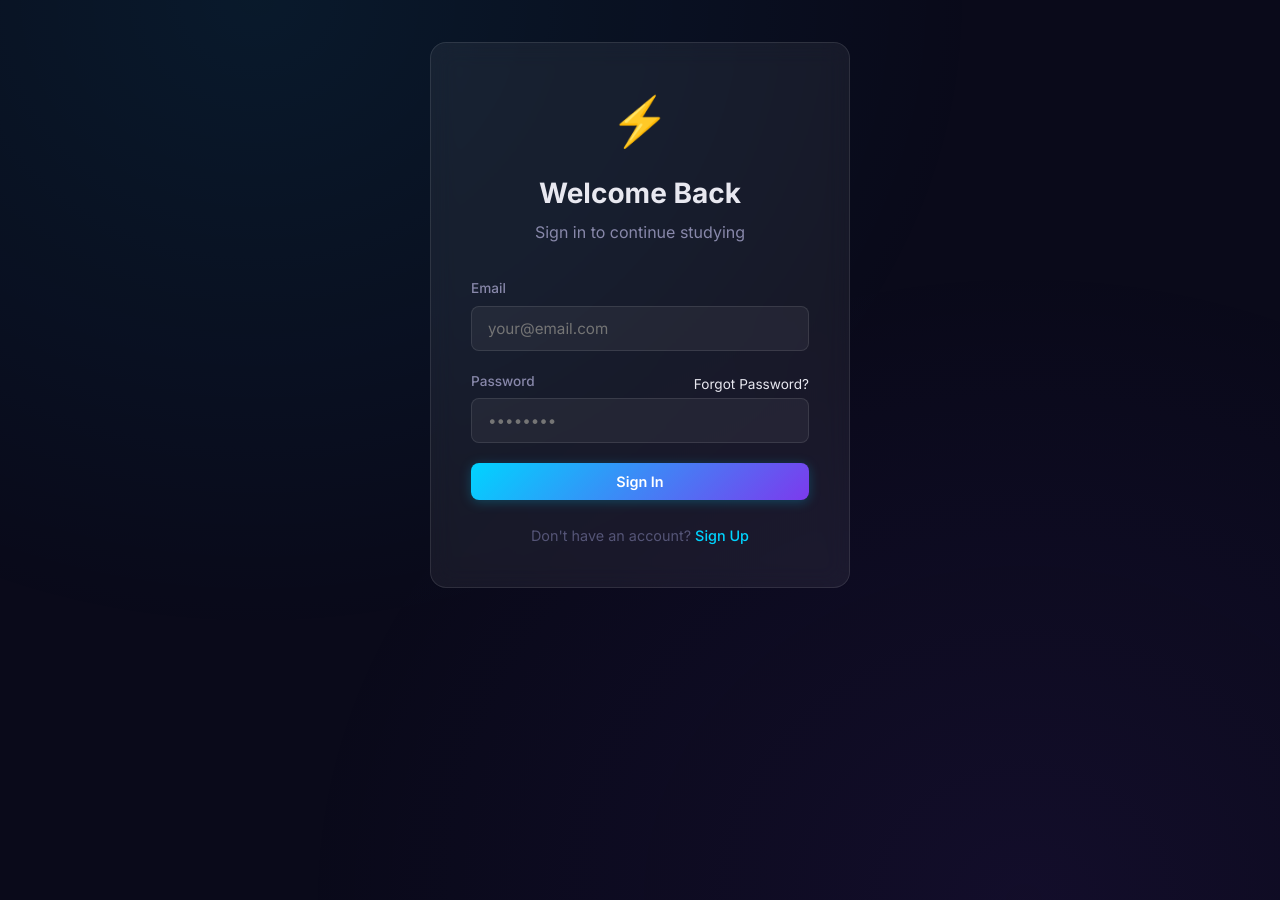
Scenario: Auth and Study UI flows › LoginPage renders error message on invalid credentials
Type "wrong@example.com" into the field labelled "Email" at (640, 328), box top-left (471, 306), bottom-right (809, 351)
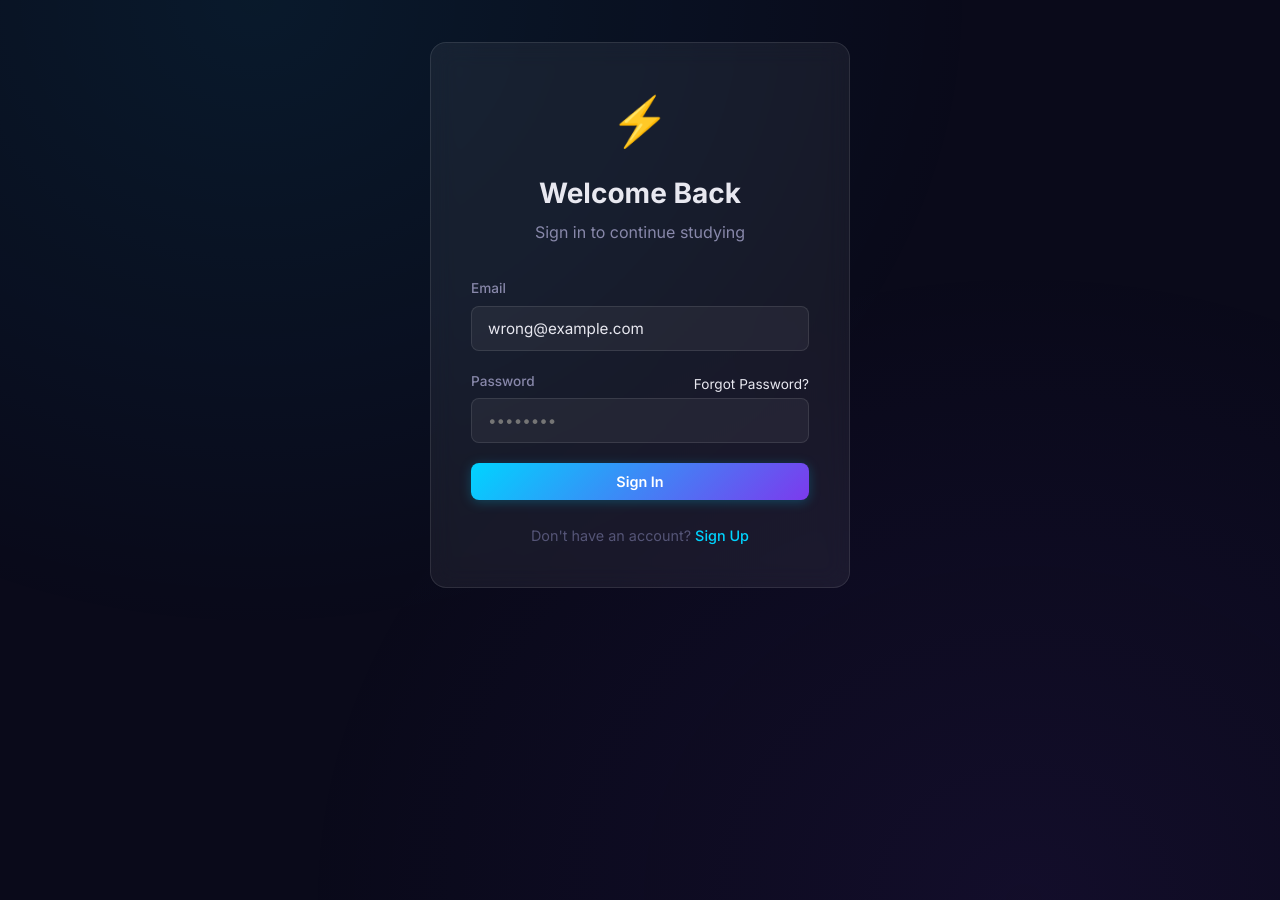
Type "wrongpass" into the password field labelled "Password" at (640, 421), box top-left (471, 398), bottom-right (809, 443)
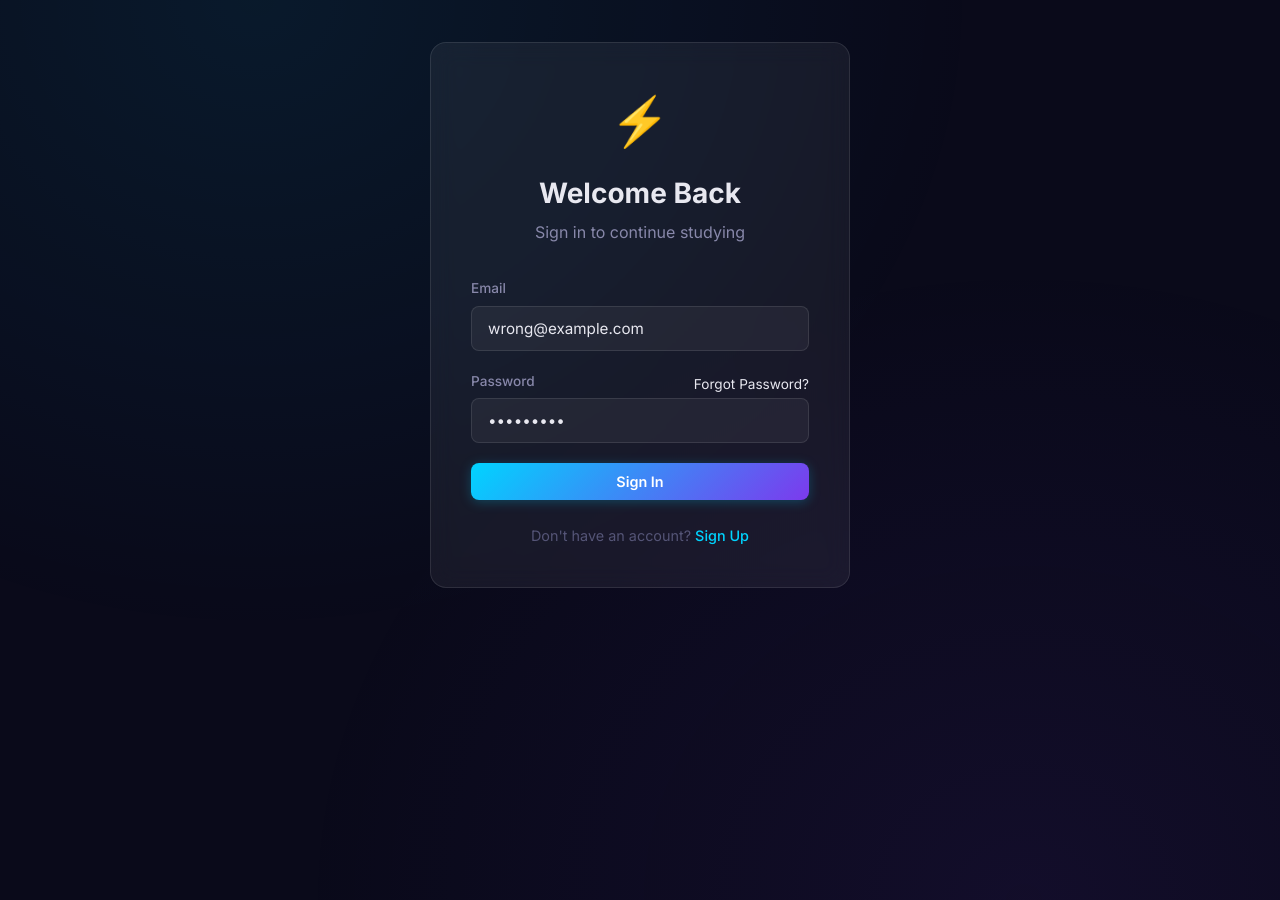
Click the button "Sign In" at (640, 482), box top-left (471, 463), bottom-right (809, 500)
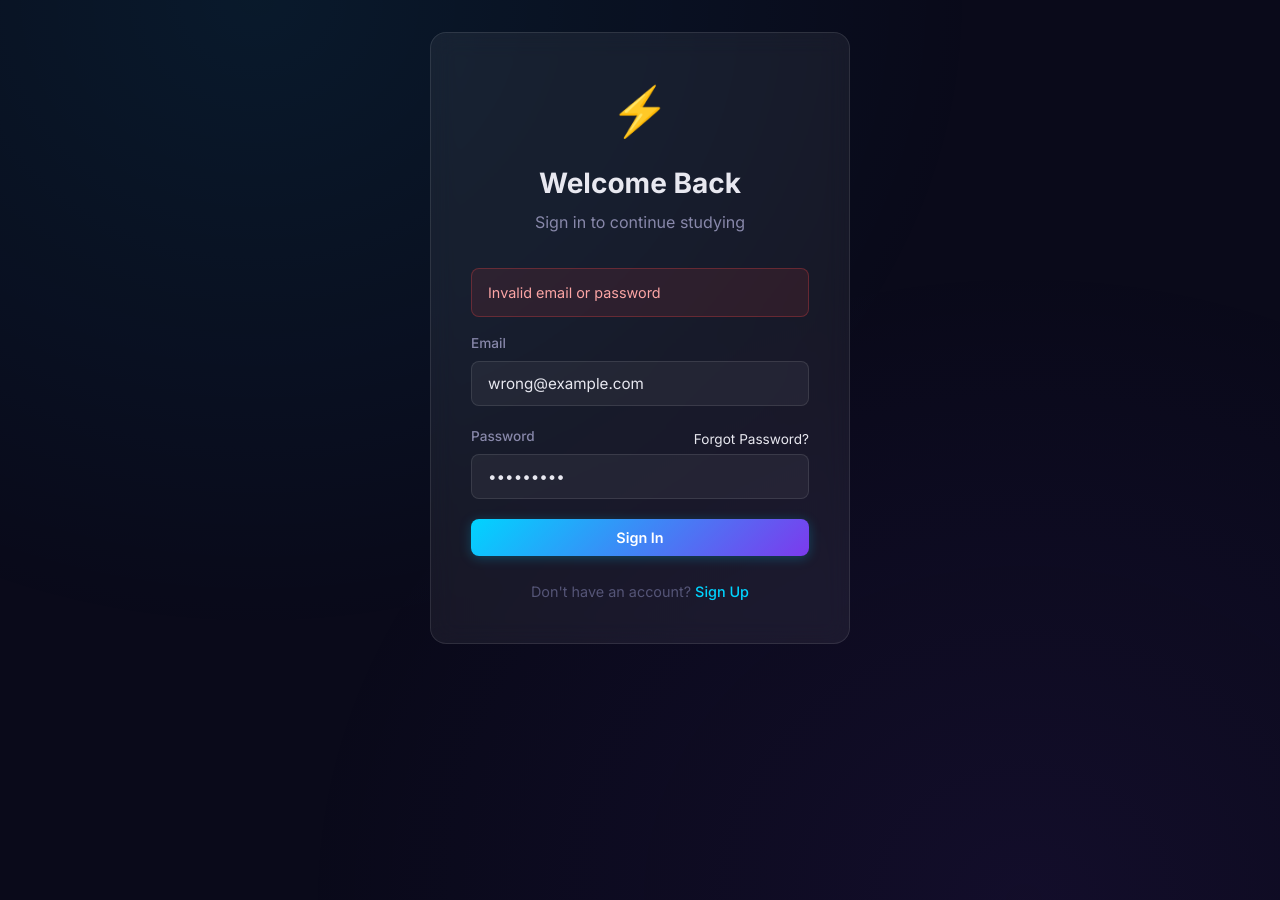
Check: the text "Invalid email or password" is shown, box top-left (471, 268), bottom-right (809, 317)
